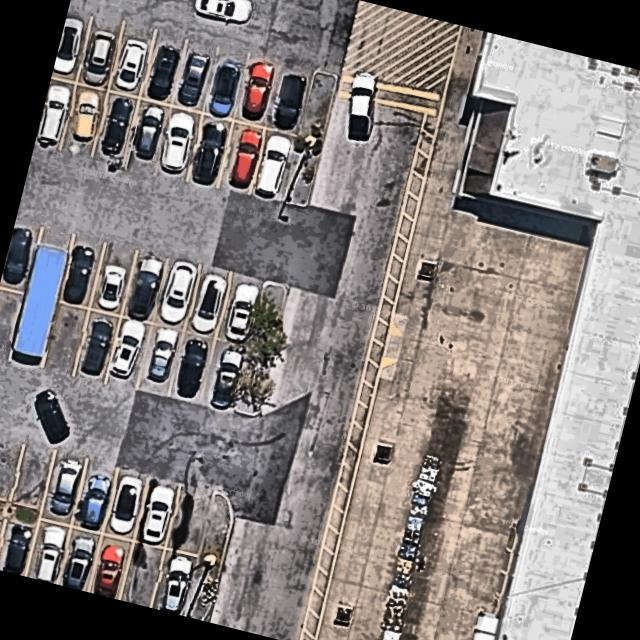car: (124, 253, 168, 326), (155, 257, 200, 328), (170, 334, 213, 403), (187, 119, 230, 188), (103, 472, 145, 539), (205, 344, 246, 412), (136, 480, 177, 545), (206, 58, 247, 123), (58, 242, 98, 308), (77, 314, 117, 380), (188, 271, 228, 337), (96, 96, 136, 162), (45, 456, 85, 521), (223, 279, 262, 345), (225, 127, 264, 193), (143, 40, 183, 104), (255, 130, 292, 199), (144, 323, 183, 388), (160, 109, 198, 175), (271, 71, 311, 133), (34, 82, 71, 149), (109, 317, 148, 380), (239, 60, 277, 124), (0, 225, 37, 289), (76, 471, 113, 533), (158, 554, 195, 615), (31, 521, 67, 583), (176, 49, 212, 111), (130, 102, 167, 162), (81, 26, 118, 86), (62, 532, 99, 591), (114, 38, 150, 94), (70, 88, 103, 148), (94, 261, 129, 315), (52, 18, 83, 78), (0, 522, 33, 575), (95, 544, 125, 598)
lot_boundary: (0, 0, 327, 616)
objects: (12, 233, 72, 364), (0, 490, 41, 526)
stall: (135, 476, 185, 548), (103, 470, 149, 542), (41, 454, 87, 526), (71, 462, 117, 534), (74, 310, 120, 382), (167, 484, 213, 556), (59, 236, 105, 308), (199, 338, 245, 410), (168, 332, 214, 404), (137, 324, 183, 396), (107, 317, 153, 389), (41, 302, 87, 374), (215, 274, 261, 346), (185, 266, 231, 338), (153, 260, 199, 332), (122, 252, 168, 324), (89, 244, 135, 316), (125, 100, 171, 172), (93, 92, 139, 164), (61, 83, 107, 155), (250, 128, 296, 200), (219, 120, 265, 192), (187, 115, 233, 187), (157, 107, 203, 179), (141, 34, 187, 106), (171, 41, 217, 113), (203, 48, 249, 120), (235, 56, 281, 128), (267, 64, 313, 136), (77, 17, 123, 89), (109, 26, 155, 98), (150, 549, 198, 615), (9, 443, 55, 509), (119, 541, 164, 607), (0, 223, 41, 294), (56, 526, 100, 591), (90, 535, 134, 600), (25, 520, 69, 584), (34, 79, 74, 149), (51, 11, 90, 81), (0, 518, 38, 576), (0, 288, 24, 359), (0, 437, 24, 503)
